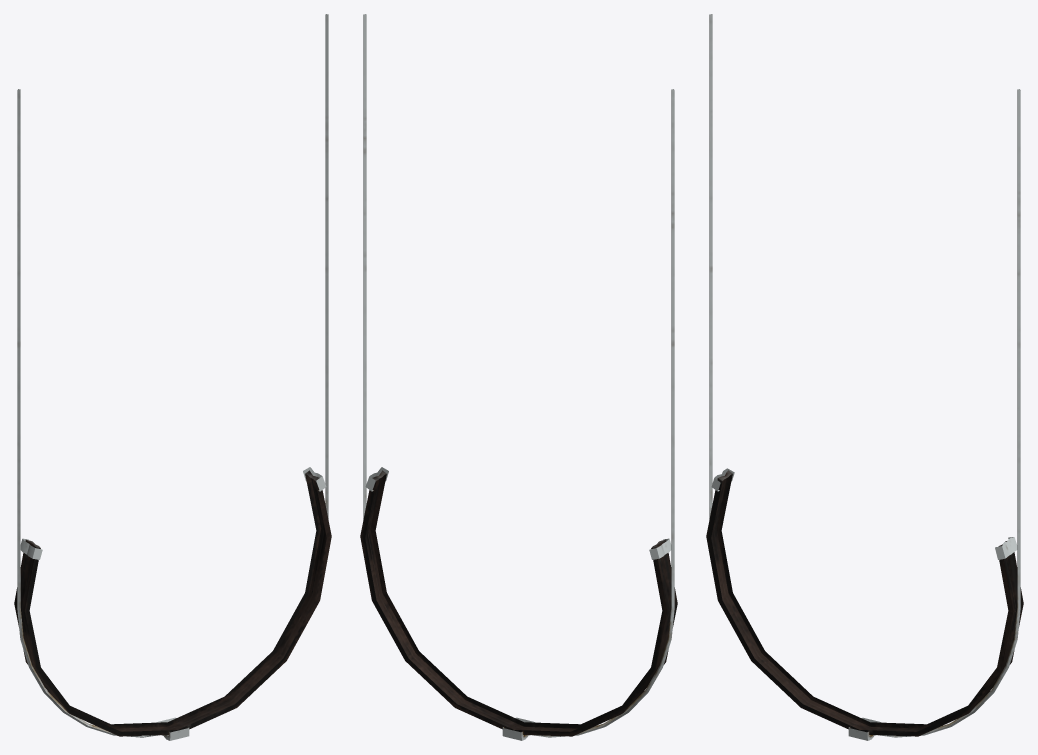
File: roof_holder.glb
3 views of the same model, side by side, from view 1: azimuth 30°, elevation 25°; view 2: azimuth 150°, elevation 25°; view 3: azimuth 330°, elevation 25° (orthographic).
Parts seen in each view (by area): view 1: duct_roofHolder_low_5; view 2: duct_roofHolder_low_5; view 3: duct_roofHolder_low_5.
Part boxes in pixels (x1,y1,x2,y2): duct_roofHolder_low_5: [14, 14, 331, 740]; duct_roofHolder_low_5: [360, 14, 677, 740]; duct_roofHolder_low_5: [706, 14, 1023, 740].
Bounding box in the file's own units: 0.3143 × 0.6587 × 0.0245.
Materials: 1 (1 with a texture image).
